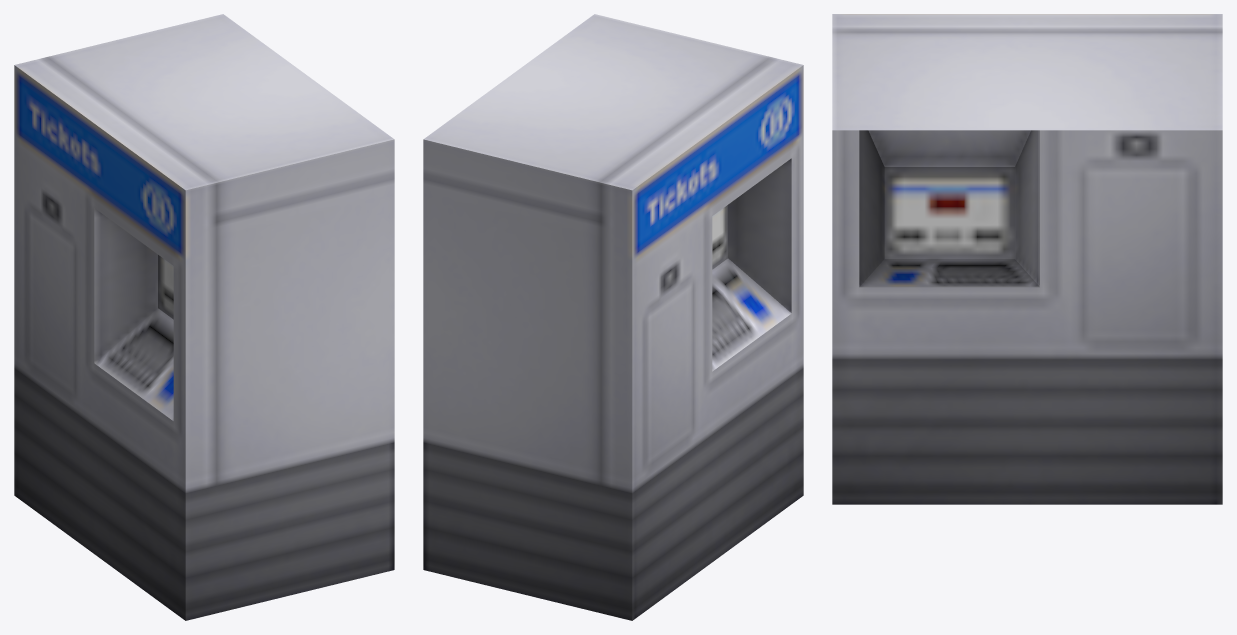
Rendered from TicketMachine.FBX.
The picture shows the model from 3 angles, left to right: view 1: azimuth 30°, elevation 25°; view 2: azimuth 150°, elevation 25°; view 3: azimuth 270°, elevation 25°; orthographic projection. The views are drawn at different scales.
Visible parts, largest first — view 1: TicketAutomaat; view 2: TicketAutomaat; view 3: TicketAutomaat.
Part boxes in pixels (bbox=[...]): TicketAutomaat: bbox=[14, 14, 394, 620]; TicketAutomaat: bbox=[423, 14, 803, 620]; TicketAutomaat: bbox=[832, 14, 1222, 504].
Size of the model in its own units: 69.81 by 137 by 99.11.
Materials: 1 (1 with a texture image).
